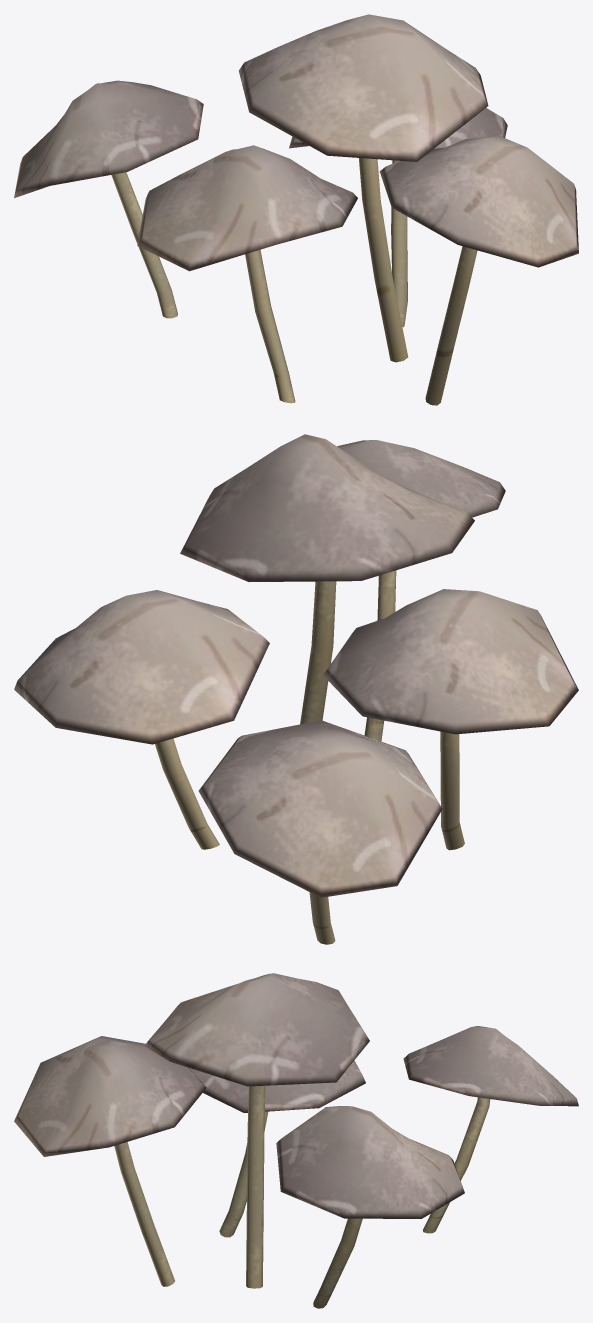
The model's file is nat_Mushroom_Common.glb.
3 views of the same model, one above another, from view 1: azimuth 30°, elevation 25°; view 2: azimuth 150°, elevation 25°; view 3: azimuth 270°, elevation 25° (orthographic). The views are drawn at different scales.
Parts seen in each view (by area): view 1: Mushroom_Common; view 2: Mushroom_Common; view 3: Mushroom_Common.
Part boxes in pixels (x1,y1,x2,y2): Mushroom_Common: (14, 14, 578, 405); Mushroom_Common: (14, 434, 578, 944); Mushroom_Common: (14, 973, 578, 1308).
Bounding box in the file's own units: 0.5637 × 0.4635 × 0.7791.
Materials: 1 (1 with a texture image).
